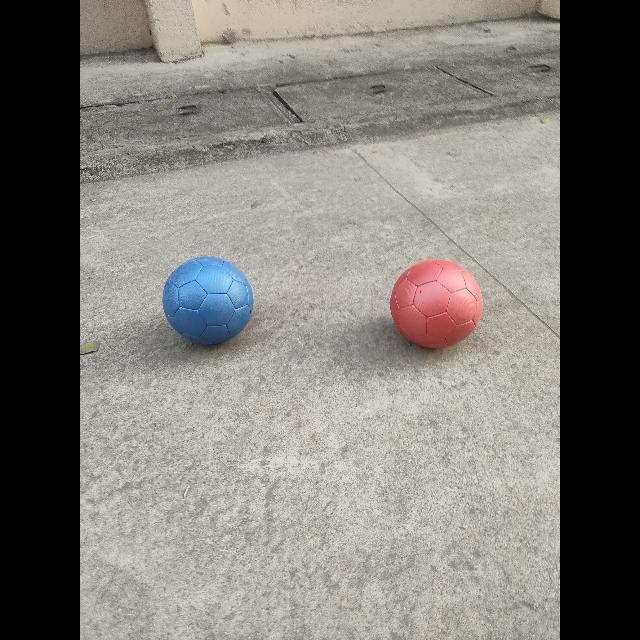B: (162, 256, 254, 348)
R: (390, 260, 482, 348)
